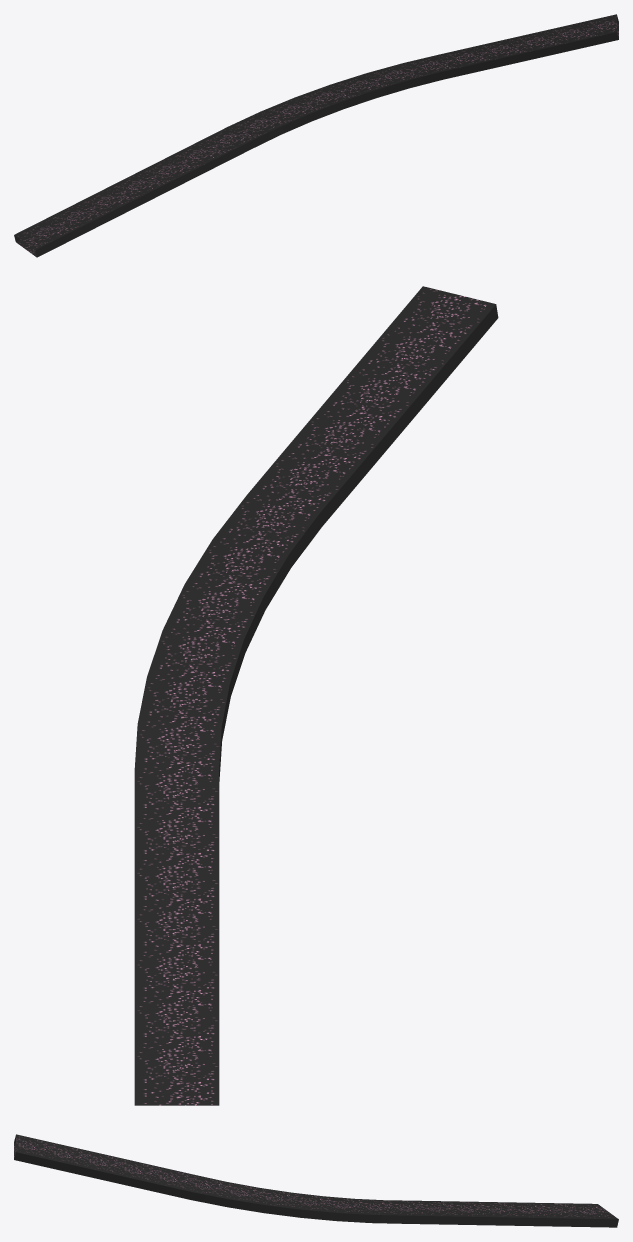
The model's file is OBJ_CourseSpring_testfloor4_2.fbx.
3 views of the same model, one above another, from view 1: azimuth 90°, elevation 25°; view 2: azimuth 150°, elevation 25°; view 3: azimuth 270°, elevation 25° (orthographic). The views are drawn at different scales.
Visible parts, largest first — view 1: polySurface8; view 2: polySurface8; view 3: polySurface8.
Part boxes in pixels (bbox=[...]): polySurface8: bbox=[14, 14, 618, 257]; polySurface8: bbox=[134, 286, 498, 1105]; polySurface8: bbox=[14, 1134, 618, 1227].
Bounding box in the file's own units: 24.74 × 18.97 × 68.58.
1 material, 1 textured.
